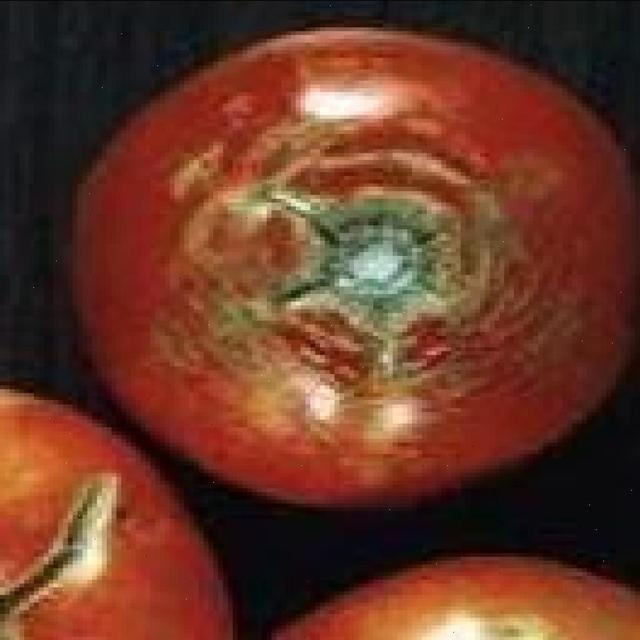Cracking Fruit: (48, 59, 331, 367)
